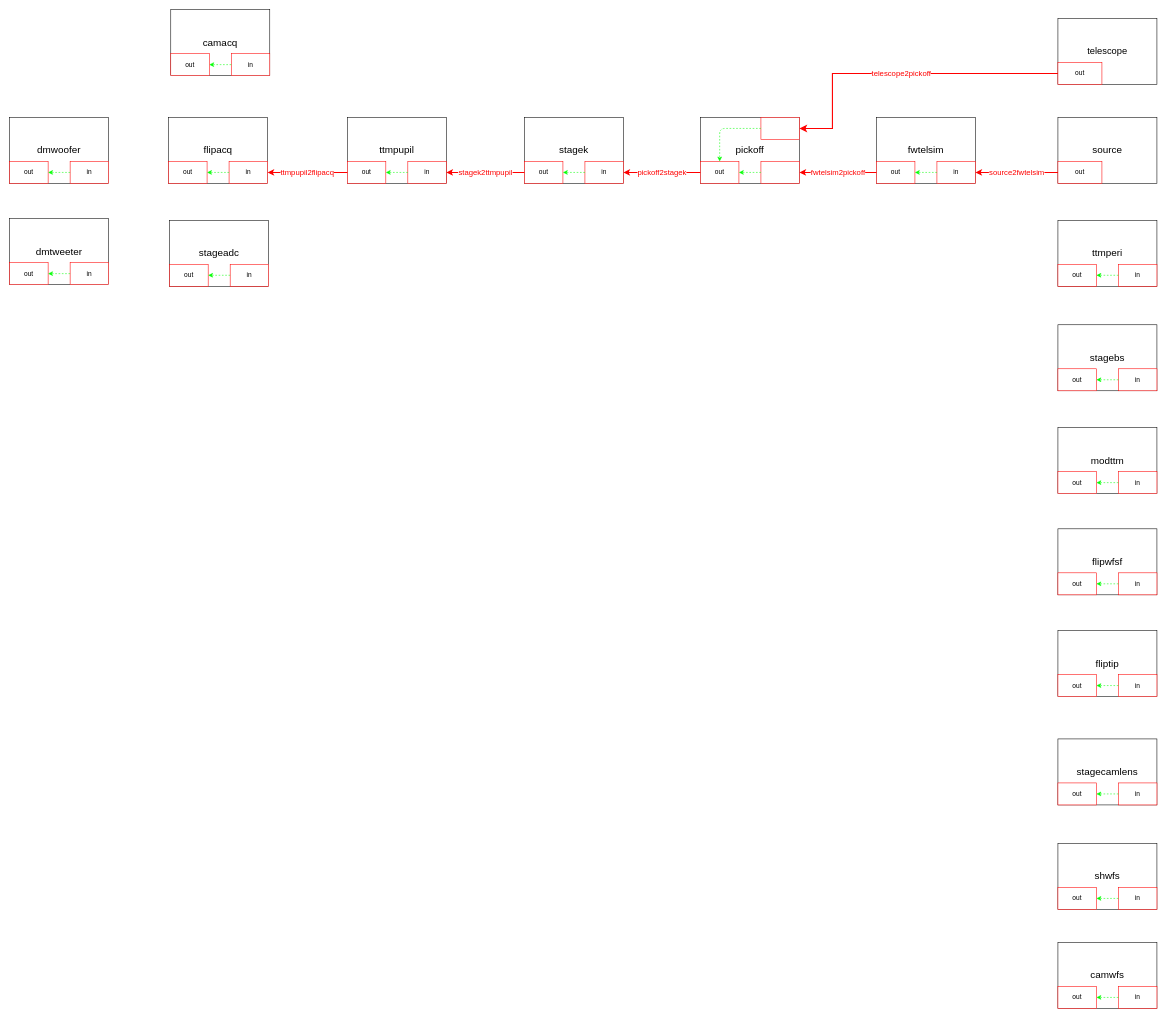
Some shapes in this 1167 by 1018 pixel diagram are drawn without their labels. The centre of each missing label's shape, as x and y in pixels:
lab: [779,172]
tel: [779,128]
